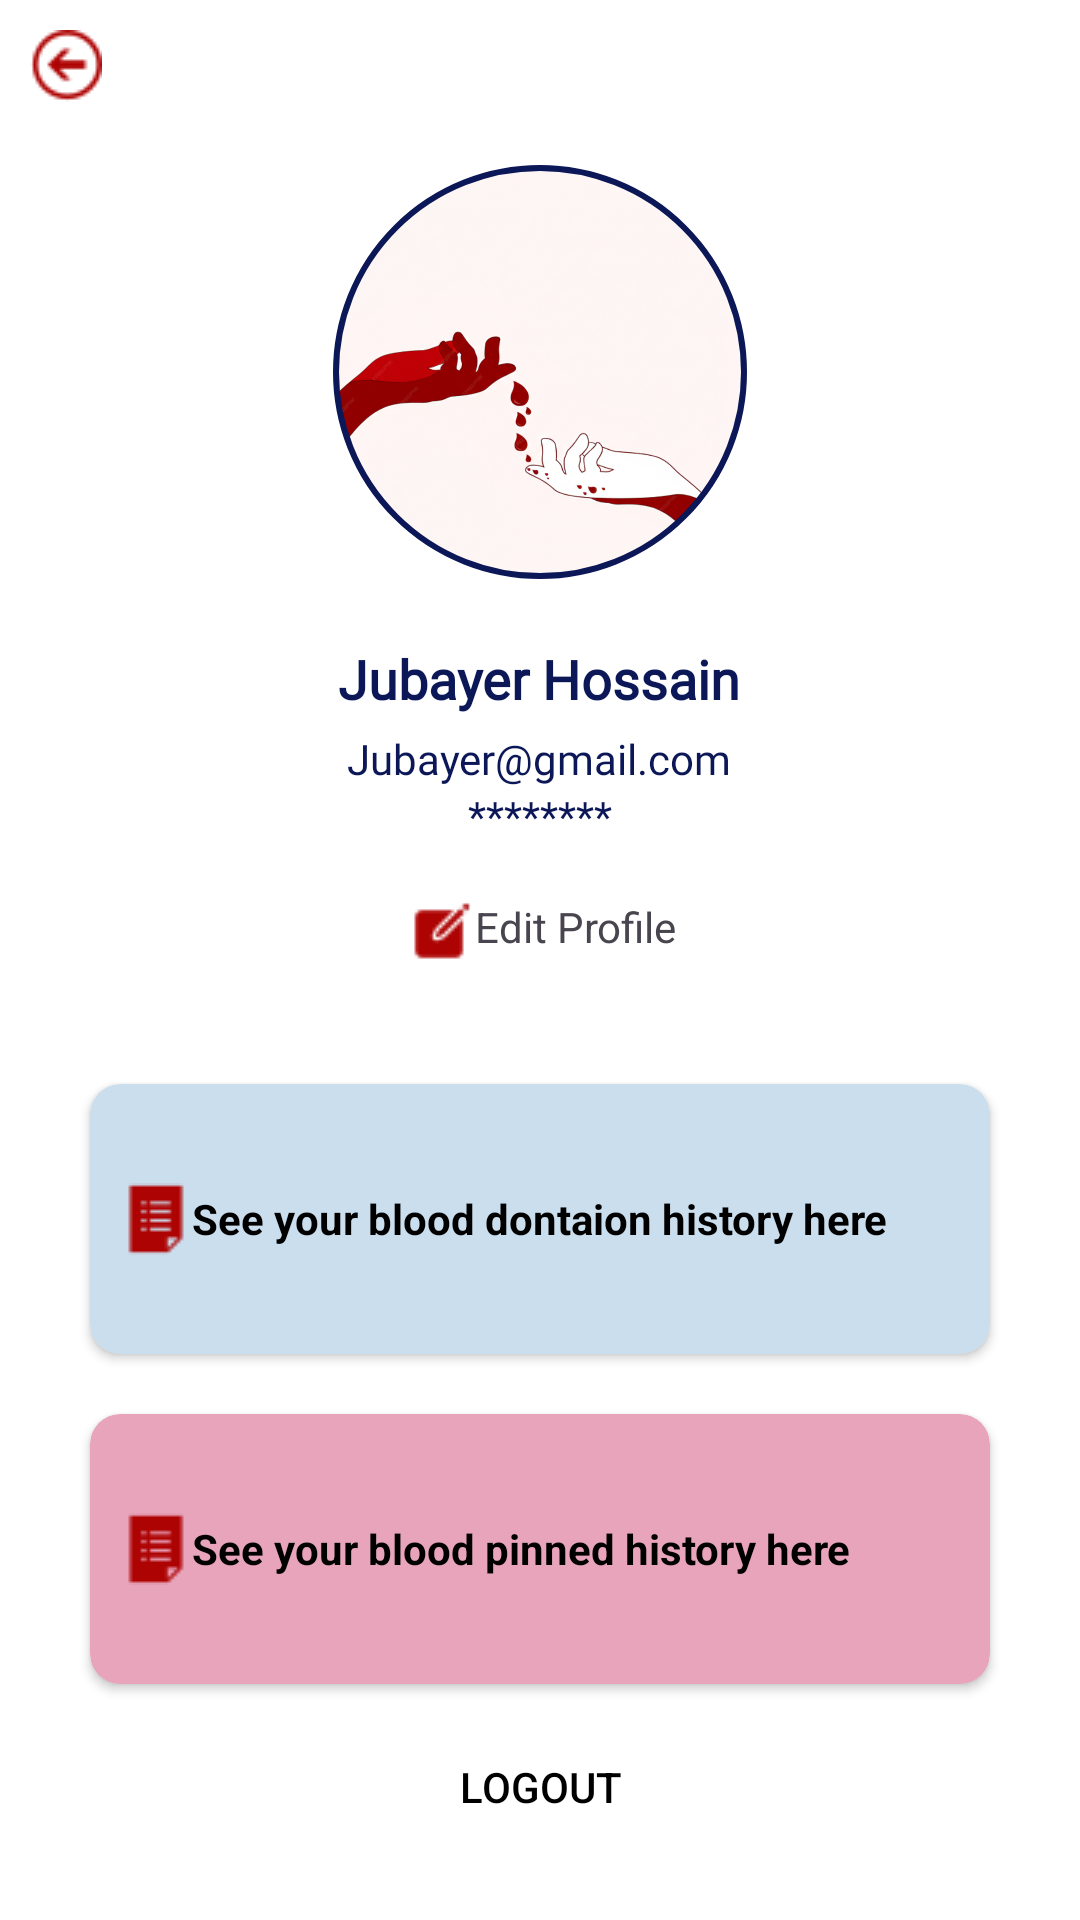

Where to tap for icons on this 1080 × 1920 app screen, as [x,y]:
backarrow: [67,65]
list: [156,1219], [156,1549]
